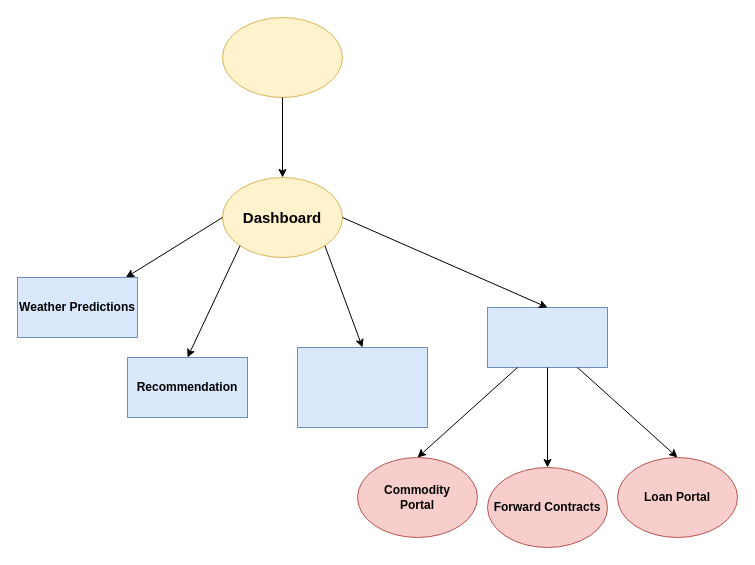
This 755x565 diagram has some shape labels left out. Each missing label, with the box of its shape:
Finance: (486, 306, 608, 368)
Government policies, NGOS's available, news: (296, 346, 428, 428)
Registeration /Sign UP: (222, 16, 342, 98)
